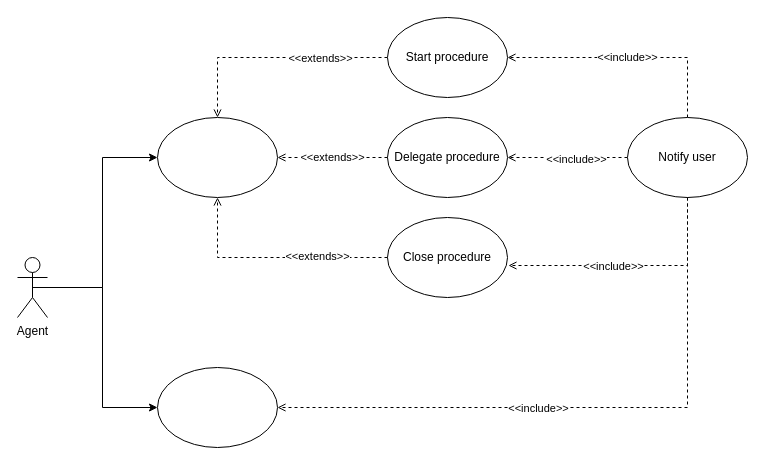
This 765x465 diagram has some shape labels left out. The shapes that lost their labels are listed below. From the top down, each one's centre as x and y in pixels, then its label:
the point at 217,157: Maintain procedure
the point at 217,407: Request user action
